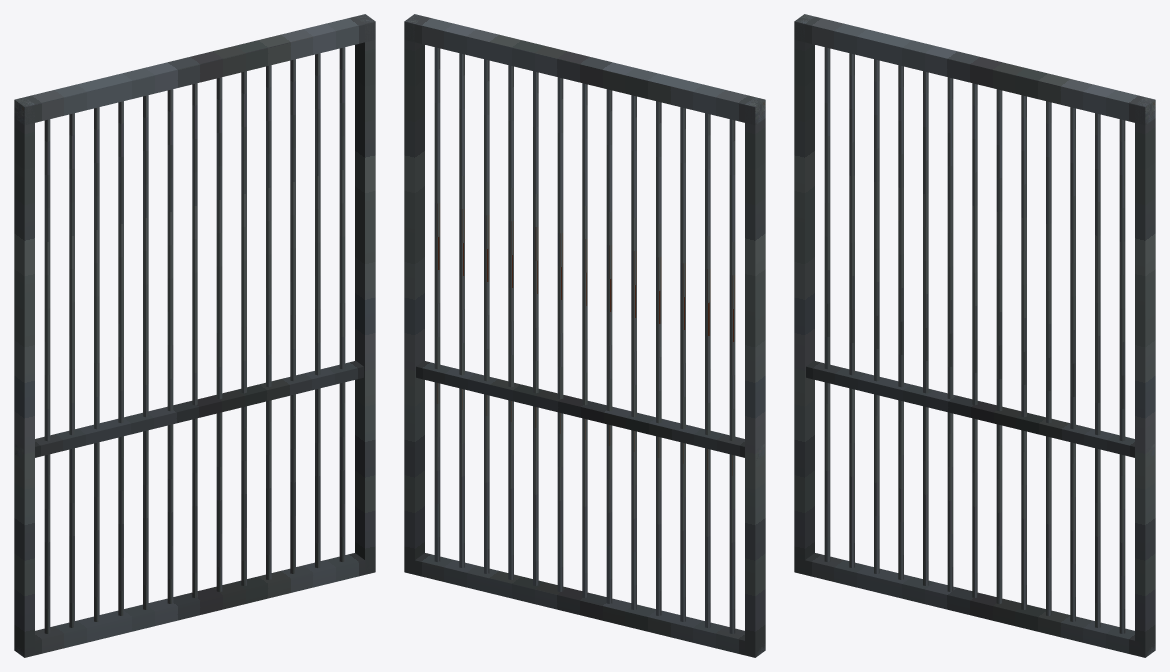
Rendered from wall_bars.glb.
3 views of the same model, side by side, from view 1: azimuth 30°, elevation 25°; view 2: azimuth 150°, elevation 25°; view 3: azimuth 330°, elevation 25° (orthographic).
Parts seen in each view (by area): view 1: wall_bars; view 2: wall_bars; view 3: wall_bars.
Part boxes in pixels (x1,y1,x2,y2): wall_bars: (14, 14, 375, 657); wall_bars: (404, 14, 765, 657); wall_bars: (794, 14, 1155, 657).
Bounding box in the file's own units: 2 × 3 × 0.1.
Materials: 1 (1 with a texture image).
